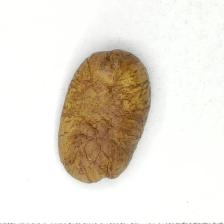NG: (69, 61, 142, 170)
